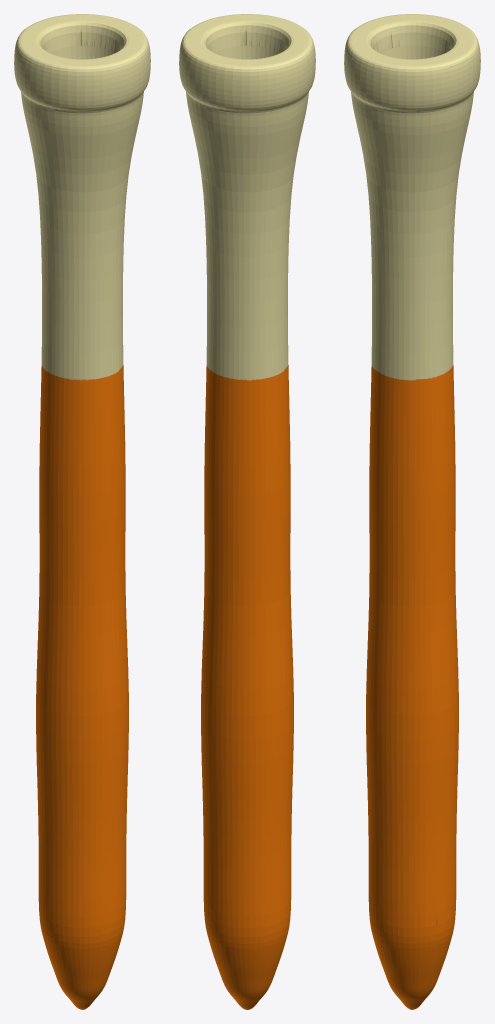
The model's file is Tubo Deforme 1(ESCALADO).fbx.
3 renders of one model, left to right at view 1: azimuth 30°, elevation 25°; view 2: azimuth 210°, elevation 25°; view 3: azimuth 330°, elevation 25°, orthographic.
Visible parts, largest first — view 1: Tubo_Deformado_1; view 2: Tubo_Deformado_1; view 3: Tubo_Deformado_1.
Part boxes in pixels (<box>): Tubo_Deformado_1: <box>14,14,150,1009</box>; Tubo_Deformado_1: <box>179,14,315,1009</box>; Tubo_Deformado_1: <box>344,14,480,1009</box>.
Size of the model in its own units: 0.0455 by 0.3553 by 0.0455.
